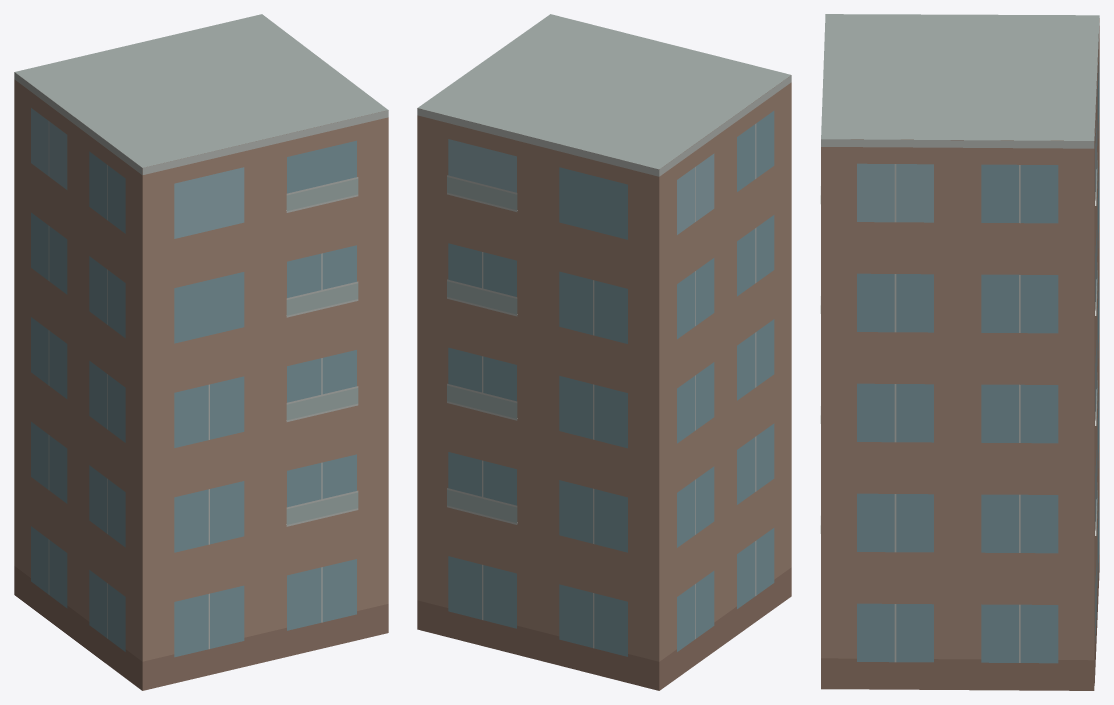
File: survey-upis-32577605.glb
3 renders of one model, left to right at view 1: azimuth 30°, elevation 25°; view 2: azimuth 150°, elevation 25°; view 3: azimuth 270°, elevation 25°, orthographic. The views are drawn at different scales.
Parts seen in each view (by area): view 1: survey-upis-32577605.tmp; view 2: survey-upis-32577605.tmp; view 3: survey-upis-32577605.tmp.
Boxes of the visible parts, x1,y1,x2,y2 form: survey-upis-32577605.tmp: (14,14,388,690); survey-upis-32577605.tmp: (417,14,791,690); survey-upis-32577605.tmp: (820,14,1099,690).
Size of the model in its own units: 8.63 by 17.4 by 8.02.
